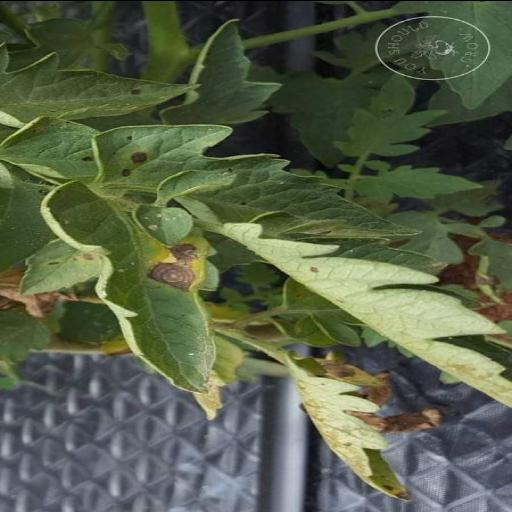Early Blight: (35, 182, 229, 418)
